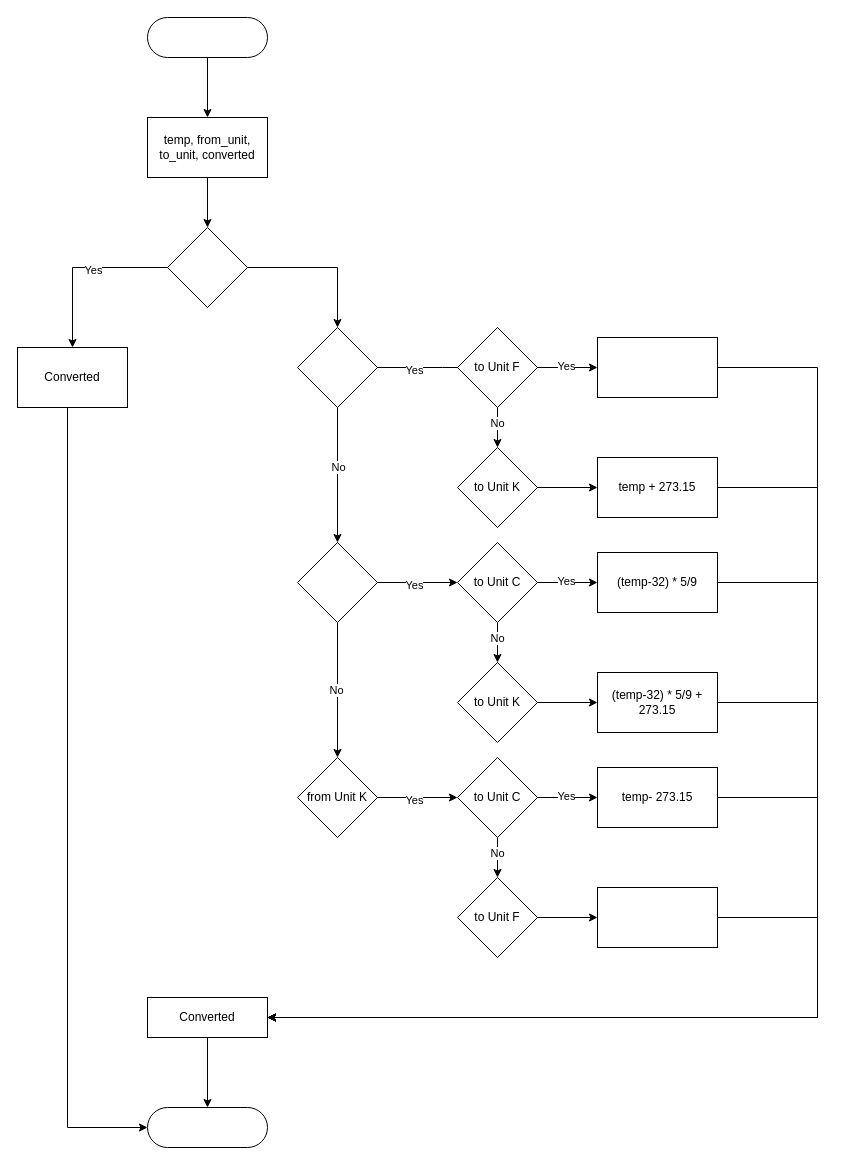
This 843x1165 diagram has some shape labels left out. Each missing label, with the centre of its shape:
(temp * 9/5) + 32: the point at 657,367
(temp - 273.15)* 9/5 + 32: the point at 657,917
End: the point at 207,1127
from Unit C: the point at 337,367
from Unit F: the point at 337,582
Is Convert to Itself: the point at 207,267
Start: the point at 207,37
